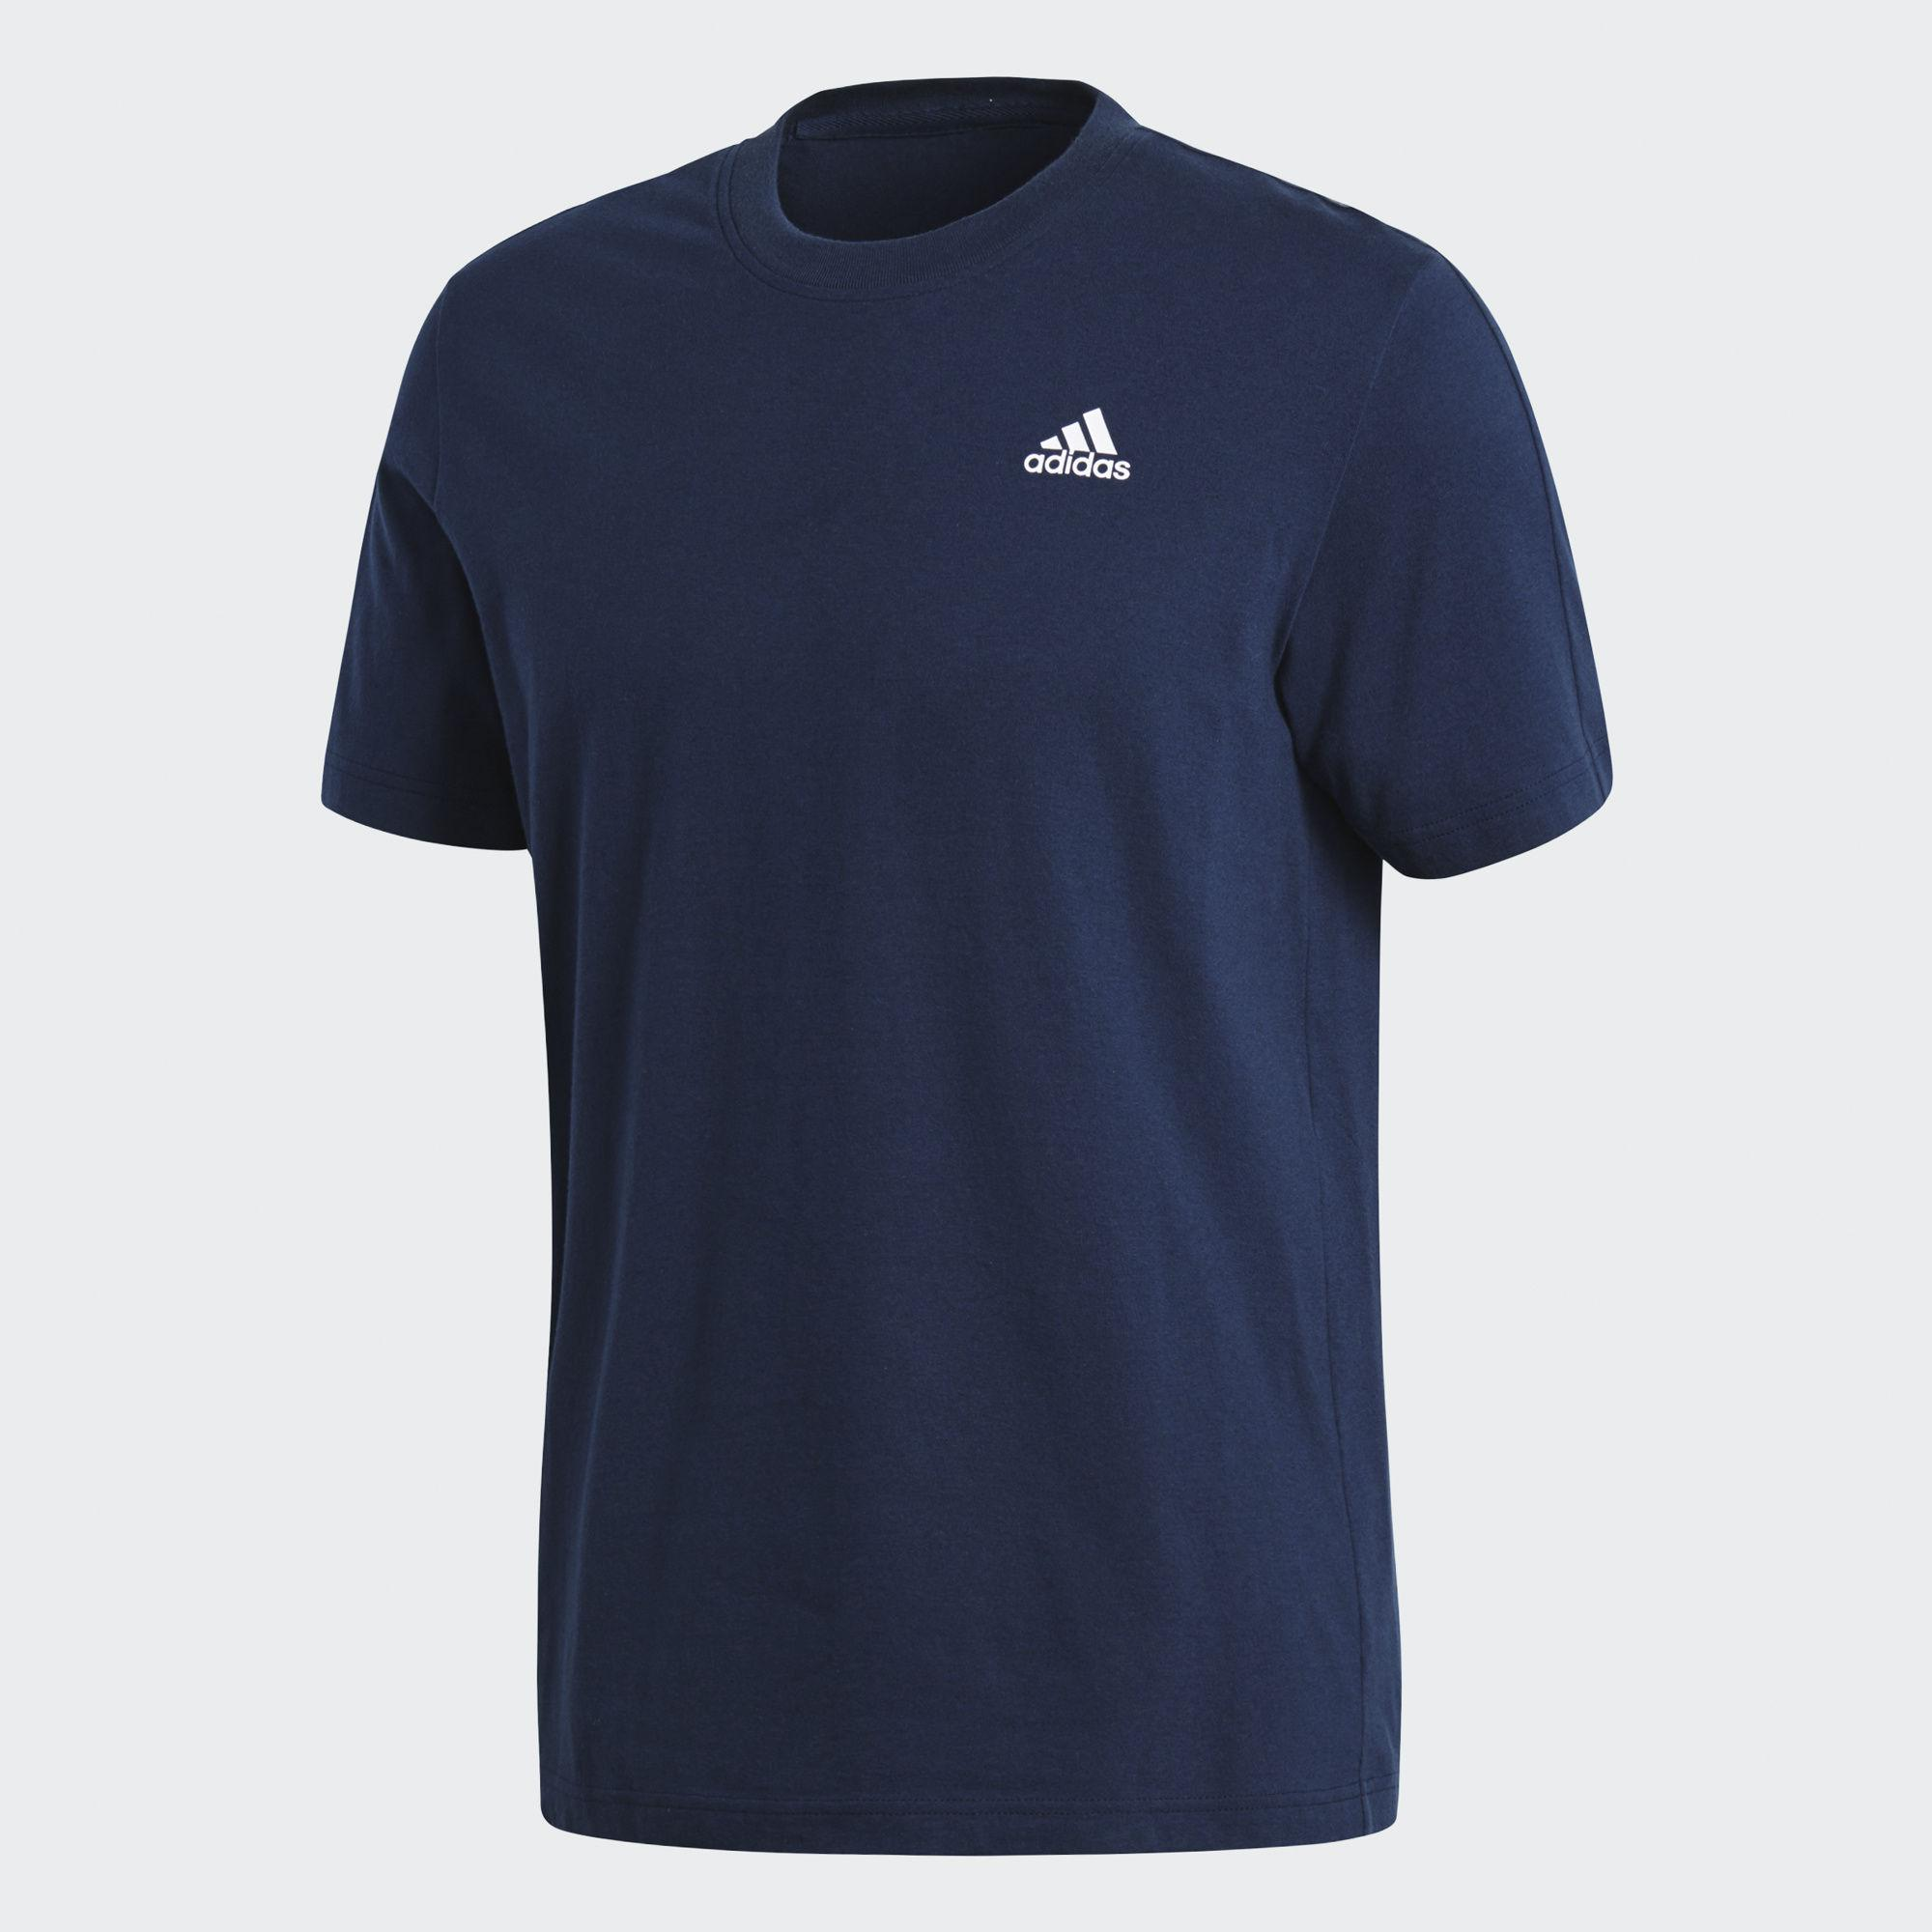teeshirt: (253, 42, 1744, 1932)
